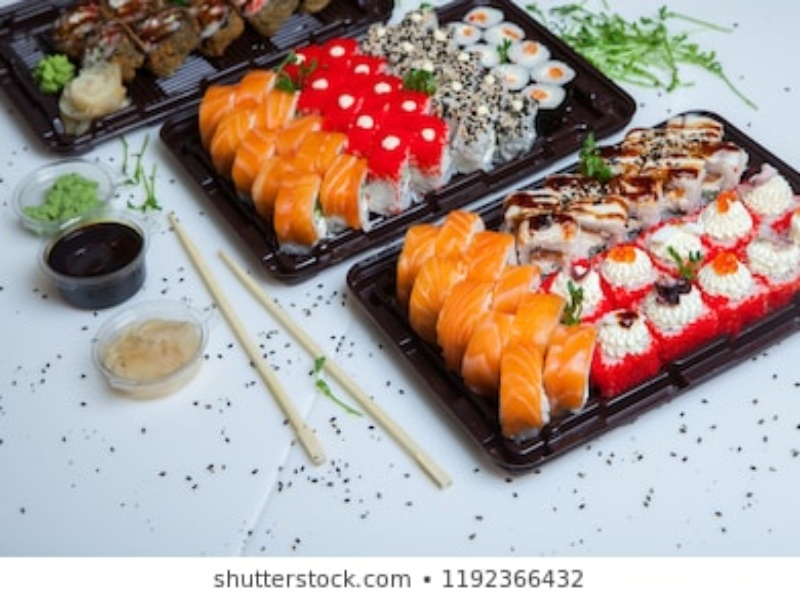plastic-tray: (344, 104, 800, 476), (159, 1, 640, 290), (2, 1, 399, 156)
